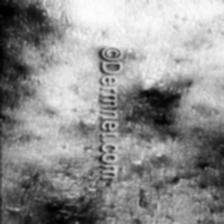Non-Cancerous Skin Condition: (119, 58, 204, 170), (20, 0, 94, 65), (16, 176, 97, 224)
